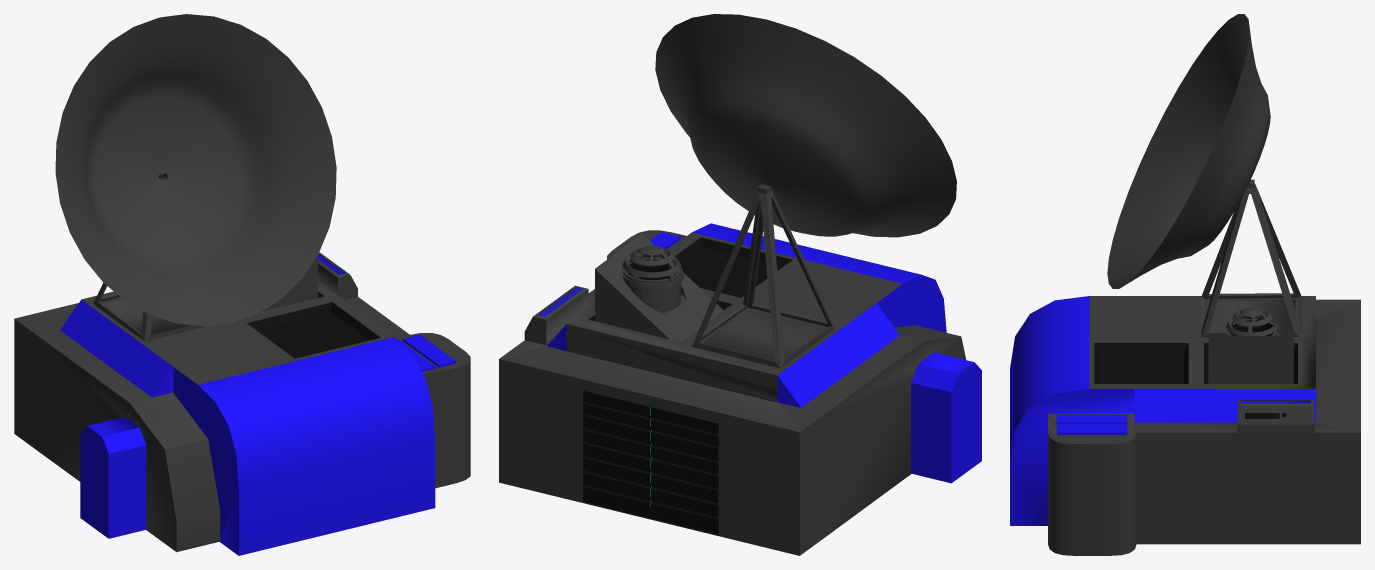
Rendered from Tech_Lab 1.FBX.
3 views of the same model, side by side, from view 1: azimuth 30°, elevation 25°; view 2: azimuth 150°, elevation 25°; view 3: azimuth 270°, elevation 25° (orthographic). The views are drawn at different scales.
Parts seen in each view (by area): view 1: Tech-Lab; view 2: Tech-Lab; view 3: Tech-Lab.
Part boxes in pixels (left/top/right/bottom): Tech-Lab: left=14, top=14, right=470, bottom=555; Tech-Lab: left=499, top=14, right=981, bottom=555; Tech-Lab: left=1010, top=14, right=1360, bottom=555.
Size of the model in its own units: 122 by 144 by 108.
